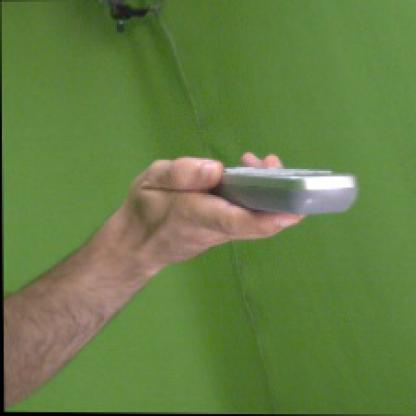Hand: (124, 152, 312, 262)
